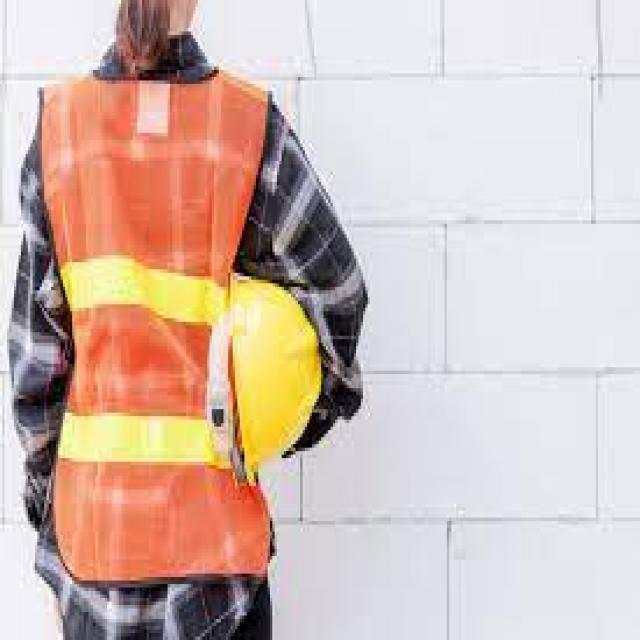Reflective-Jacket: (23, 46, 307, 577)
Safety-Helmet: (200, 269, 333, 486)
